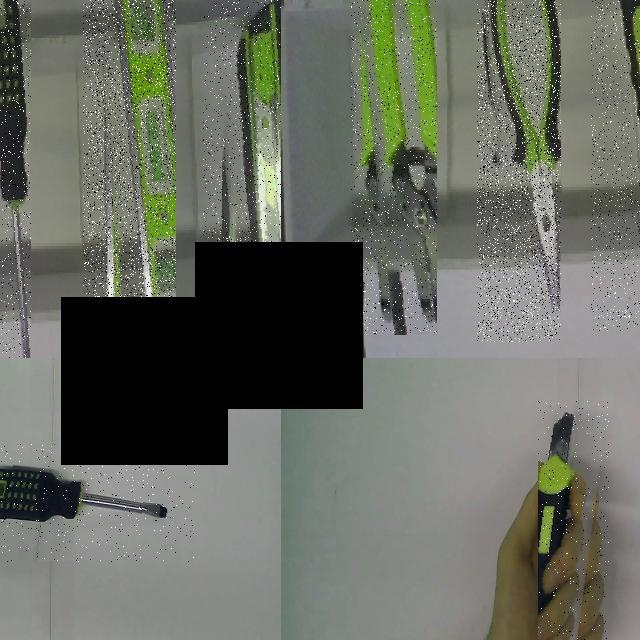estilete: (538, 412, 574, 610)
